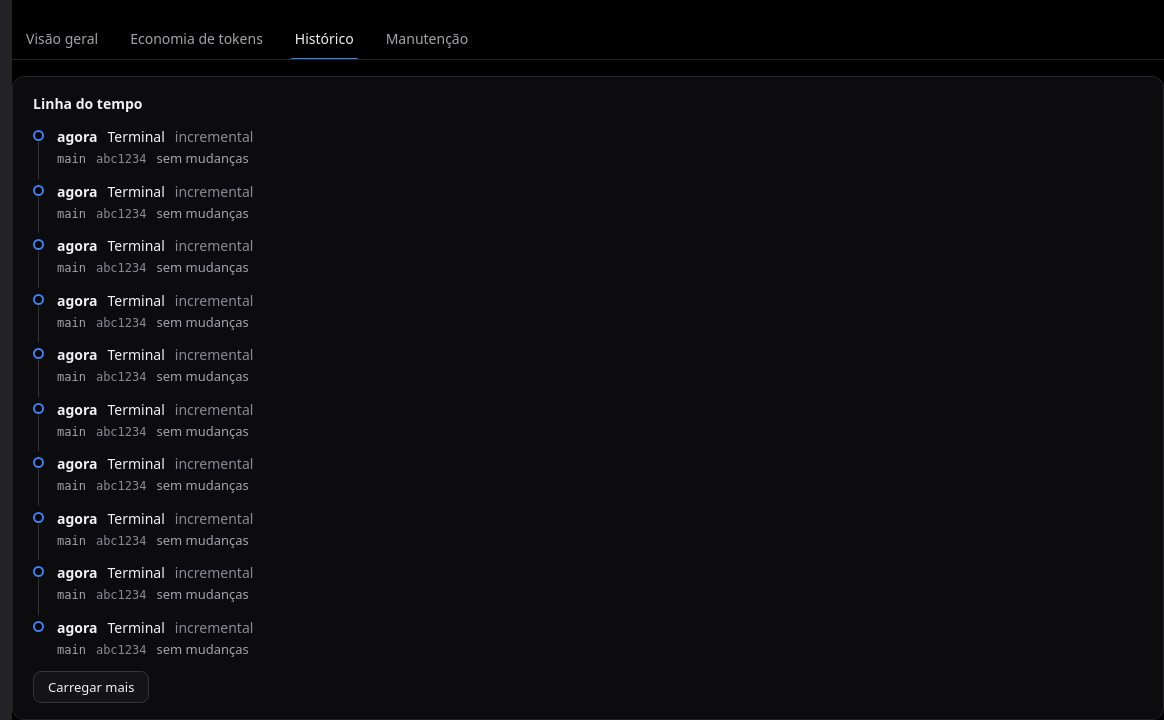
Test: ProjectPage: linha do tempo paginada › "Carregar mais" pede a página seguinte e some quando acaba
This screenshot has width=1164, height=720.
What coordinates should you click on to do the following:
click the button "Carregar mais"
I would click on:
 (91, 687)
Its box is [33,671,149,703].
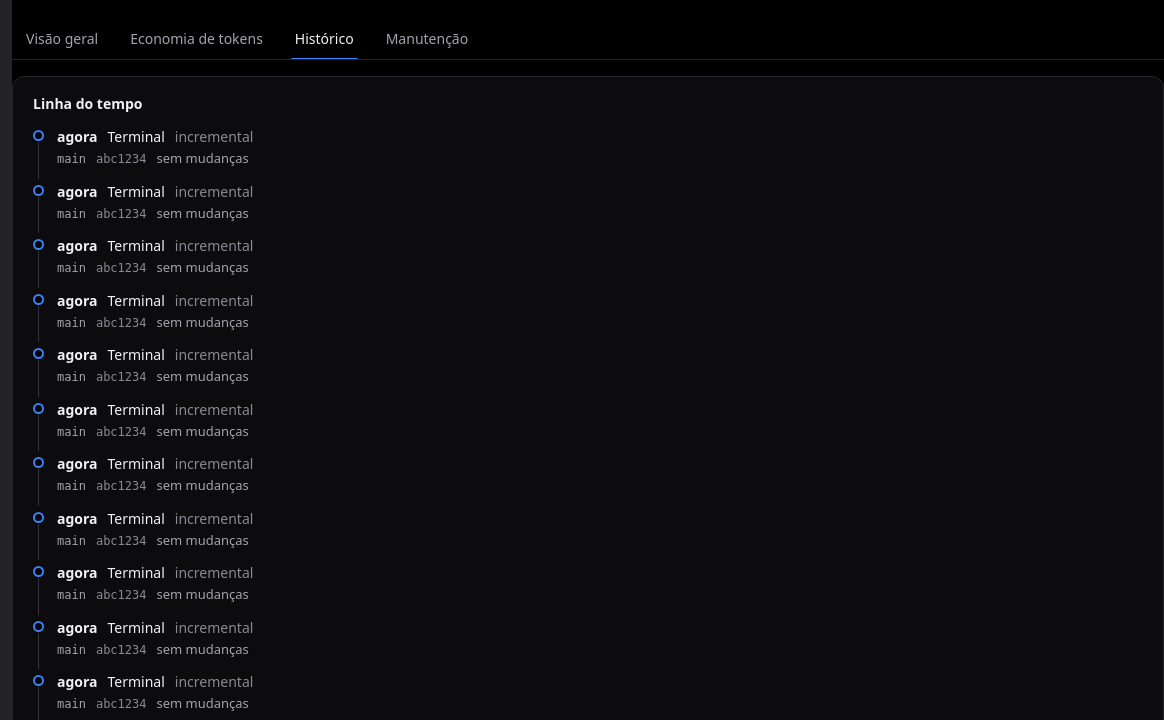
Expected: the button "Carregar mais" is gone
